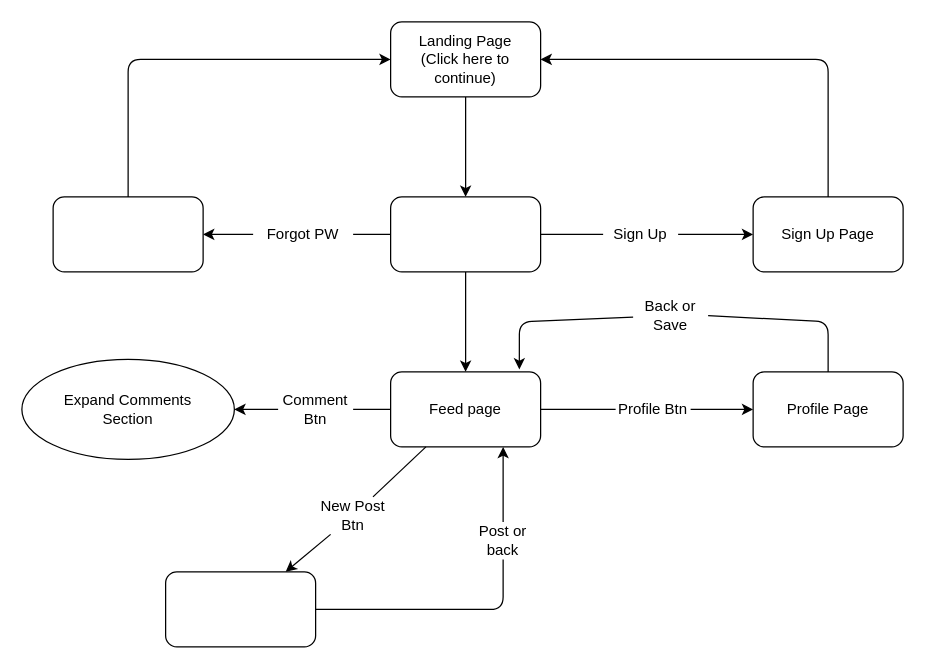
This 925x669 diagram has some shape labels left out. The box of each missing label's shape, as (x1, y1, x2, y2) in pixels:
Create Post Page: (164, 571, 316, 647)
Forgot PW Page: (52, 196, 203, 272)
Sign in page: (389, 196, 541, 272)
